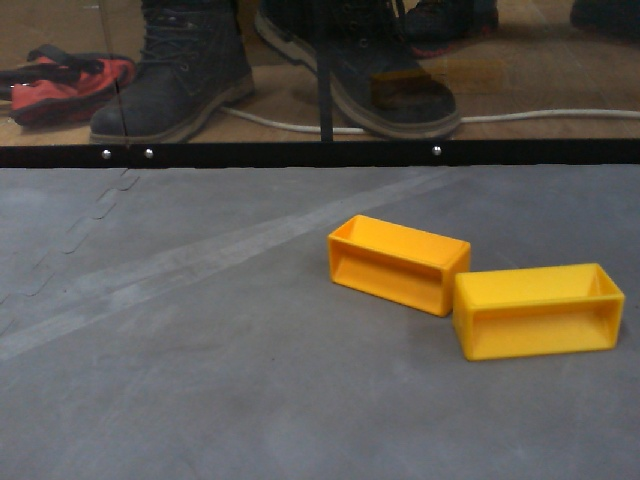YellowSample: (455, 263, 625, 361), (322, 213, 475, 319)
